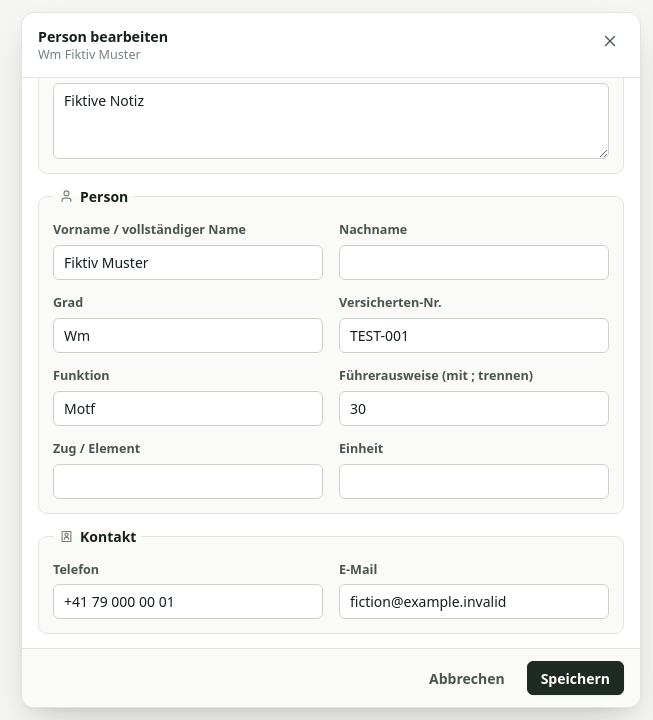
Test case: person editing alongside a live planning board › blocks conflicting edits of Telefon without committing other form changes
The width and height of the screenshot is (653, 720).
(page scrolled)
Replace the text in the field labelled "Telefon" with "+41 79 000 00 02". click: (188,602)
box: [53, 584, 323, 619]
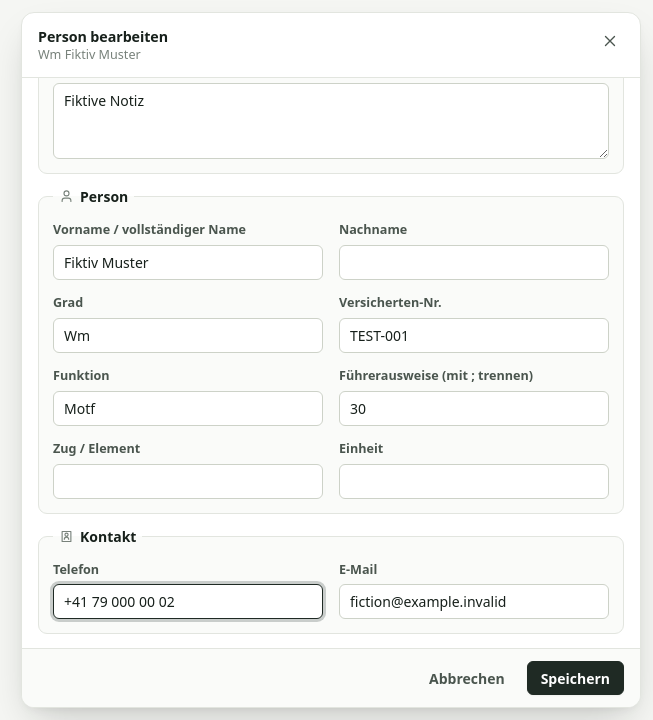
Type "Unsaved fictional unit" into the field labelled "Einheit". click: (474,481)
box: [339, 464, 609, 498]
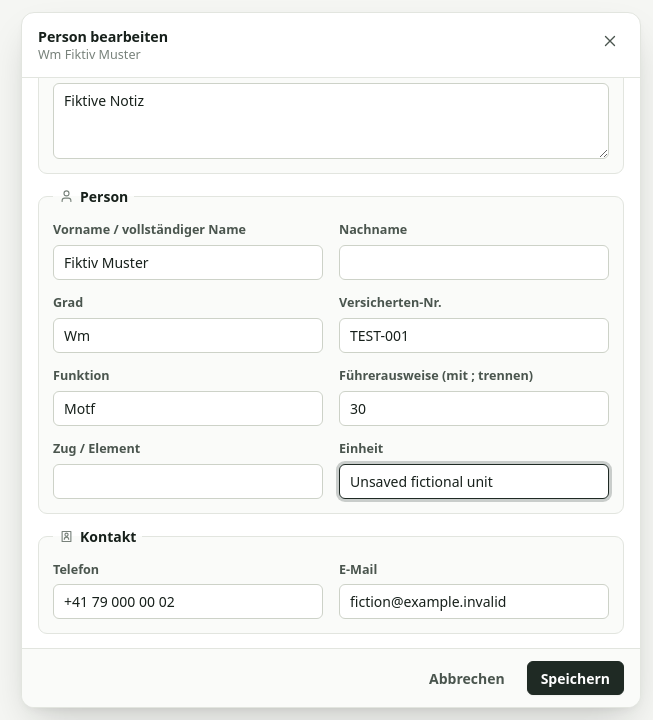
Click the button "Speichern". click: (575,678)
box: [527, 661, 624, 695]
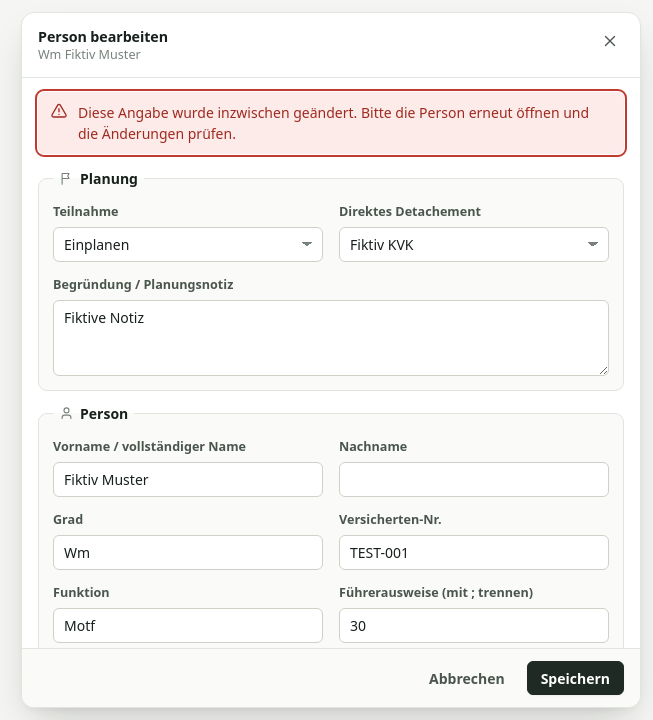
Expected: the message shows "inzwischen geändert", [78, 103, 589, 143]
